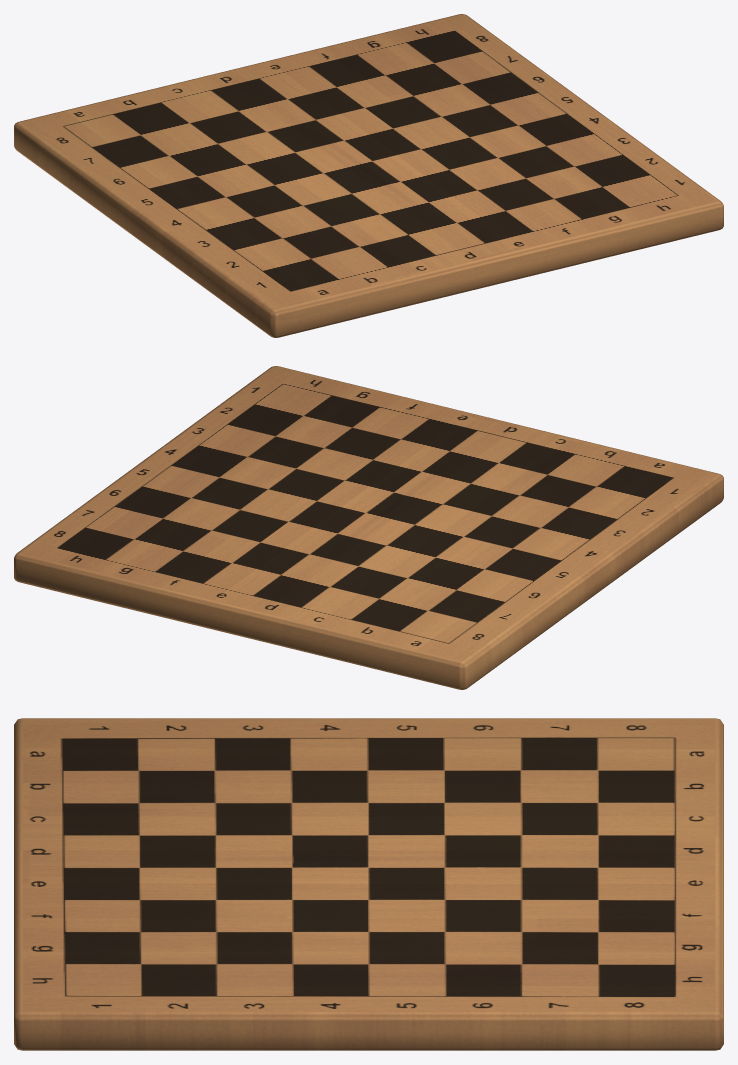
The model's file is Tablero.obj.
3 views of the same model, one above another, from view 1: azimuth 30°, elevation 25°; view 2: azimuth 150°, elevation 25°; view 3: azimuth 270°, elevation 25° (orthographic). The views are drawn at different scales.
Parts seen in each view (by area): view 1: Cube; view 2: Cube; view 3: Cube.
Boxes of the visible parts, left/top/right/bottom form: Cube: left=14, top=14, right=723, bottom=337; Cube: left=14, top=366, right=723, bottom=689; Cube: left=14, top=718, right=723, bottom=1050.
Bounding box in the file's own units: 17.3 × 1.02 × 17.3.
